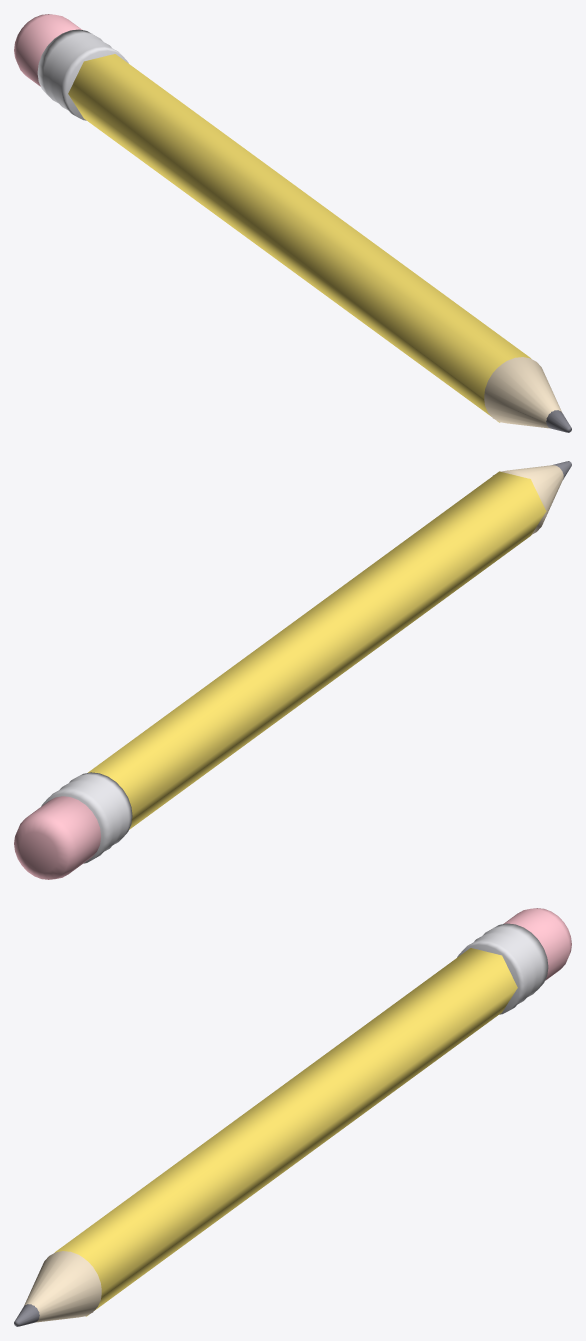
Rendered from TraceRacePencil.glb.
3 views of the same model, one above another, from view 1: azimuth 30°, elevation 25°; view 2: azimuth 150°, elevation 25°; view 3: azimuth 330°, elevation 25° (orthographic).
Visible parts, largest first — view 1: Body, Wood, Ferrule, Eraser; view 2: Body, Eraser, Ferrule, Wood; view 3: Body, Wood, Ferrule, Eraser.
Part boxes in pixels (x1,y1,x2,y2): Body: (68,54,531,422); Wood: (484,357,561,428); Ferrule: (37,29,128,120); Eraser: (14,14,82,86); Body: (88,471,546,829); Eraser: (14,796,100,879); Ferrule: (41,772,132,863); Wood: (493,465,563,534); Body: (54,948,517,1316); Wood: (24,1251,101,1322); Ferrule: (457,923,548,1014); Eraser: (503,908,571,980).
Bounding box in the file's own units: 4.3 × 4.3 × 58.55.
